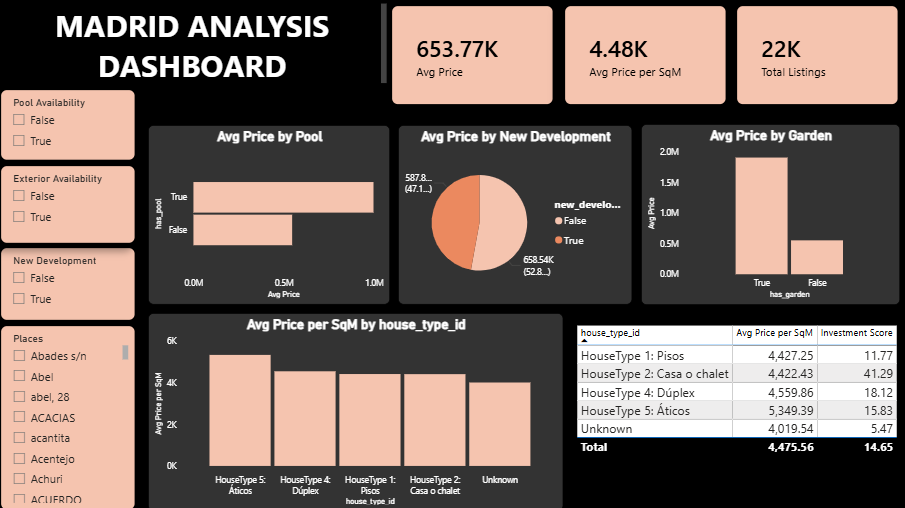

The dashboard page shown, as its layout file describes it:
{"tool":"powerbi","page":{"name":"Page 1","canvas":[1280,720],"ordinal":0},"visuals":[{"type":"barChart","title":"Avg Price by Pool","fields":{"Category":["houses_Madrid.has_pool"],"Y":["houses_Madrid.Avg Price"]},"box":[209.2,176.2,341.3,253.2],"z":0},{"type":"columnChart","title":"Avg Price by Garden","fields":{"Category":["houses_Madrid.has_garden"],"Y":["houses_Madrid.Avg Price"]},"box":[904.3,174.8,364.7,254.6],"z":1000},{"type":"pieChart","title":"Avg Price by New Development","fields":{"Category":["houses_Madrid.is_new_development"],"Y":["houses_Madrid.Avg Price"]},"box":[561.5,176,330.3,253.2],"z":2000},{"type":"clusteredColumnChart","fields":{"Category":["houses_Madrid.house_type_id"],"Y":["houses_Madrid.Avg Price per SqM"]},"box":[209.2,440.4,584.9,279.4],"z":3000},{"type":"tableEx","fields":{"Values":["houses_Madrid.house_type_id","houses_Madrid.Avg Price per SqM","houses_Madrid.Investment Score"]},"box":[807.9,454.2,461.1,249.1],"z":4000},{"type":"cardVisual","fields":{"Data":["houses_Madrid.Total Listings"]},"box":[1037,5.3,232.4,144.4],"z":5000},{"type":"cardVisual","fields":{"Data":["houses_Madrid.Avg Price"]},"box":[551.1,5.3,232.4,144.4],"z":6000},{"type":"cardVisual","fields":{"Data":["houses_Madrid.Avg Price per SqM"]},"box":[794.1,5.3,232.4,144.4],"z":7000},{"type":"slicer","fields":{"Values":["houses_Madrid.has_pool"]},"box":[0,123.2,193.7,103.9],"z":8000},{"type":"slicer","fields":{"Values":["houses_Madrid.is_new_development"]},"box":[0,346.9,193.7,107.4],"z":9000},{"type":"slicer","fields":{"Values":["houses_Madrid.raw_address"]},"box":[0,456,193.7,264.1],"z":10000},{"type":"slicer","fields":{"Values":["houses_Madrid.is_exterior"]},"box":[0,230.6,193.7,114.4],"z":11000},{"type":"textbox","box":[0,0,551,122.6],"z":12000}]}

Visuals, with their boxes in screenshot pixels (x1, y1, x2, y2), scaled from the page's 1280x720 canvas onto the 905x508 screenshot:
"Avg Price by Pool" barChart: [left=148, top=124, right=389, bottom=303]
"Avg Price by Garden" columnChart: [left=639, top=123, right=897, bottom=303]
"Avg Price by New Development" pieChart: [left=397, top=124, right=631, bottom=303]
clusteredColumnChart - houses_Madrid.house_type_id x houses_Madrid.Avg Price per SqM: [left=148, top=311, right=561, bottom=507]
tableEx - houses_Madrid.house_type_id x houses_Madrid.Avg Price per SqM: [left=571, top=320, right=897, bottom=496]
cardVisual - houses_Madrid.Total Listings: [left=733, top=4, right=898, bottom=106]
cardVisual - houses_Madrid.Avg Price: [left=390, top=4, right=554, bottom=106]
cardVisual - houses_Madrid.Avg Price per SqM: [left=561, top=4, right=726, bottom=106]
slicer - houses_Madrid.has_pool: [left=0, top=87, right=137, bottom=160]
slicer - houses_Madrid.is_new_development: [left=0, top=245, right=137, bottom=321]
slicer - houses_Madrid.raw_address: [left=0, top=322, right=137, bottom=507]
slicer - houses_Madrid.is_exterior: [left=0, top=163, right=137, bottom=243]
textbox: [left=0, top=0, right=390, bottom=87]
